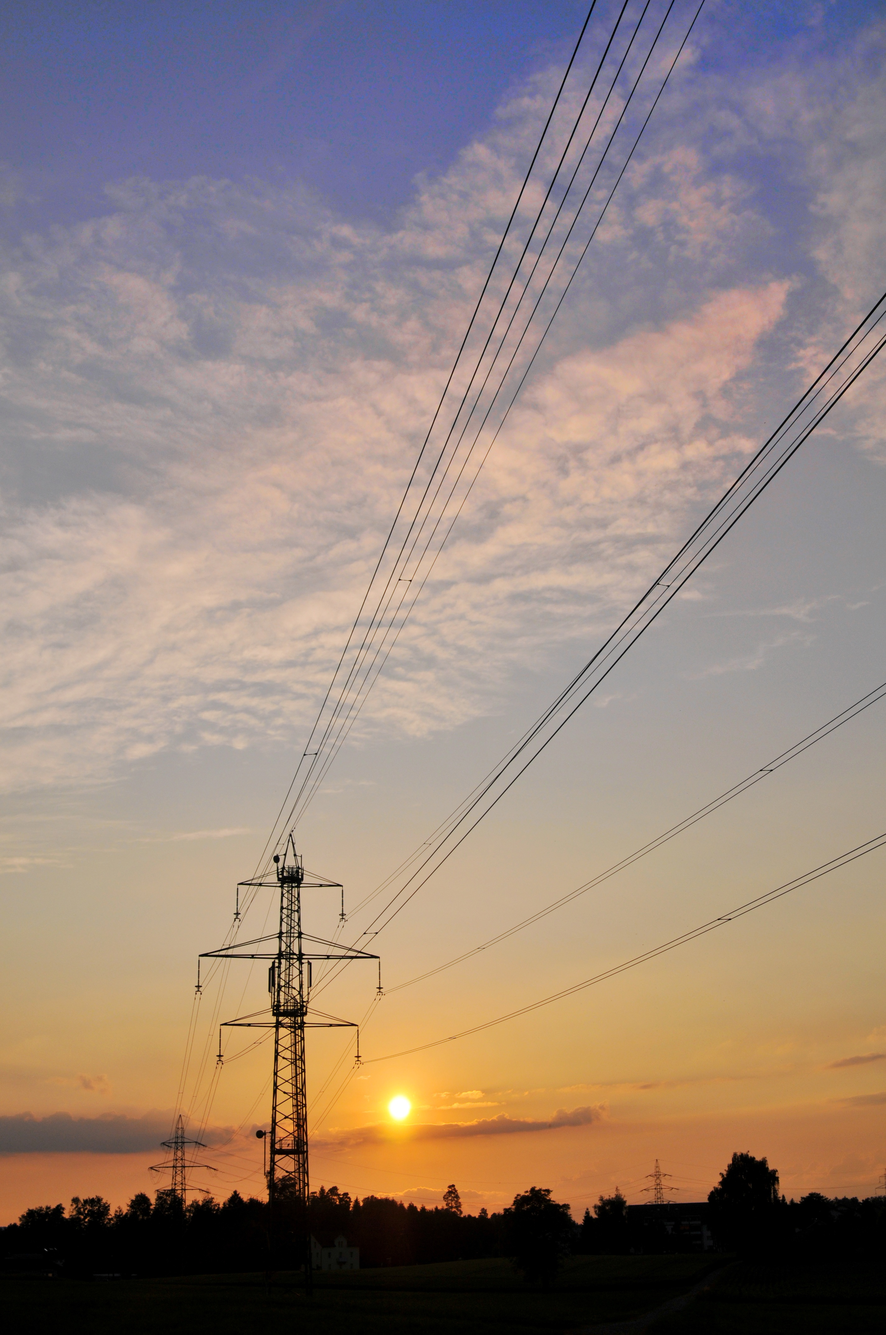insulator: (352, 1026, 363, 1062), (194, 955, 204, 992), (215, 1026, 225, 1063), (375, 957, 385, 992), (338, 886, 348, 921), (235, 885, 242, 923)
